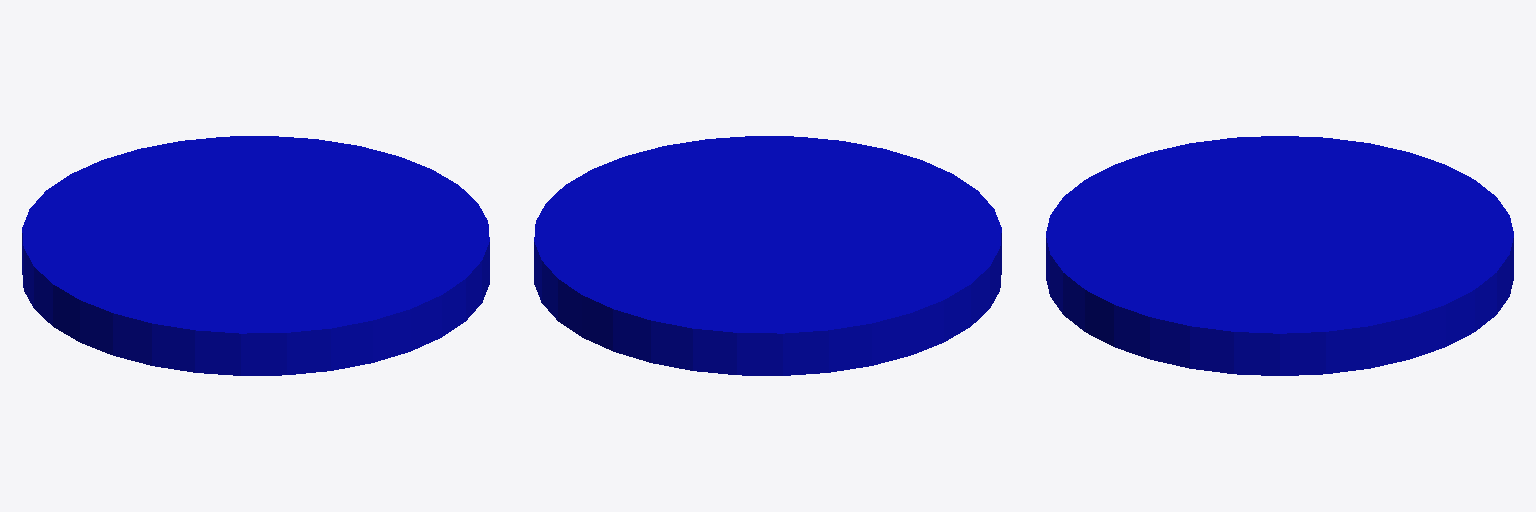
Rendered from goal.obj.
3 views of the same model, side by side, from view 1: azimuth 30°, elevation 25°; view 2: azimuth 150°, elevation 25°; view 3: azimuth 270°, elevation 25° (orthographic).
Parts seen in each view (by area): view 1: Cylinder; view 2: Cylinder; view 3: Cylinder.
Boxes of the visible parts, x1,y1,x2,y2 form: Cylinder: [22, 136, 489, 375]; Cylinder: [534, 136, 1001, 375]; Cylinder: [1046, 136, 1513, 375].
Size of the model in its own units: 0.2 by 0.02 by 0.2.